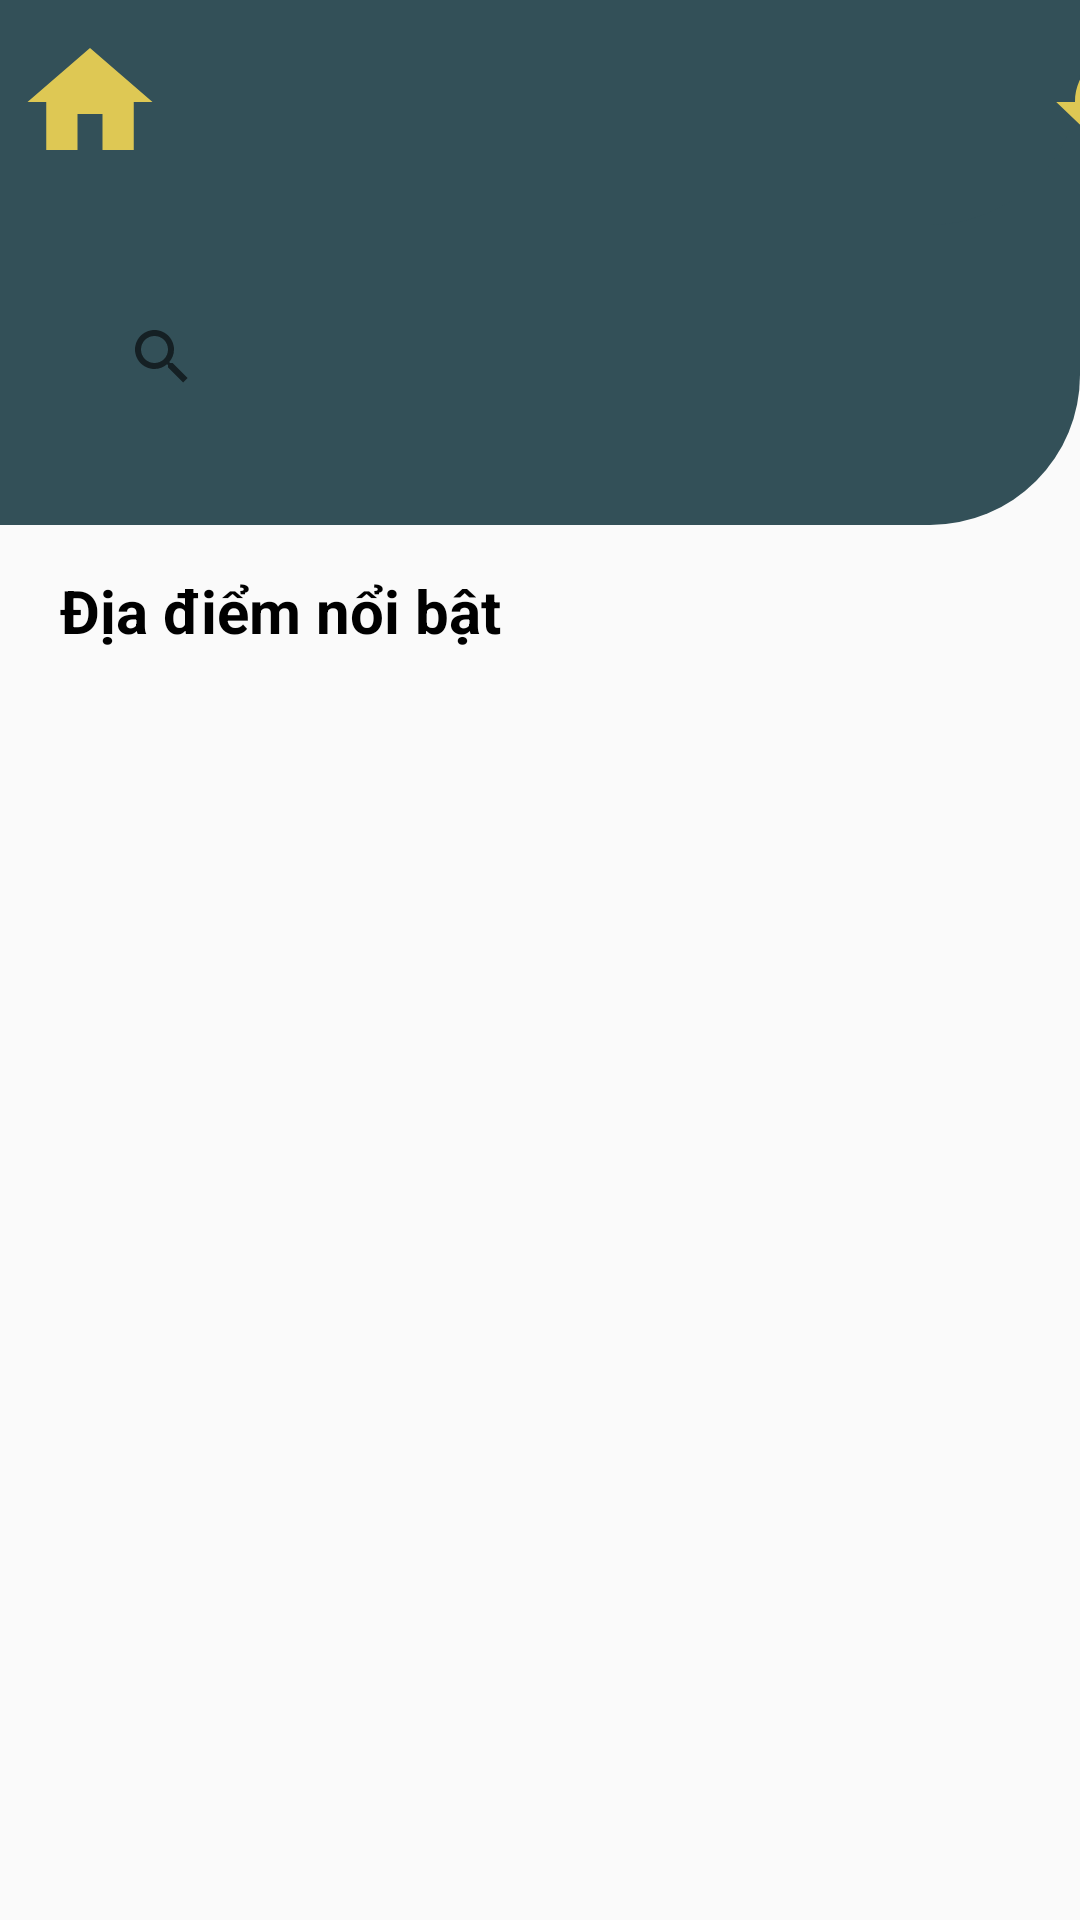

Screen size 1080×1920. Icon name, then its box in pixels as box(x1, y1, x2, y2):
home: box(28, 48, 152, 150)
